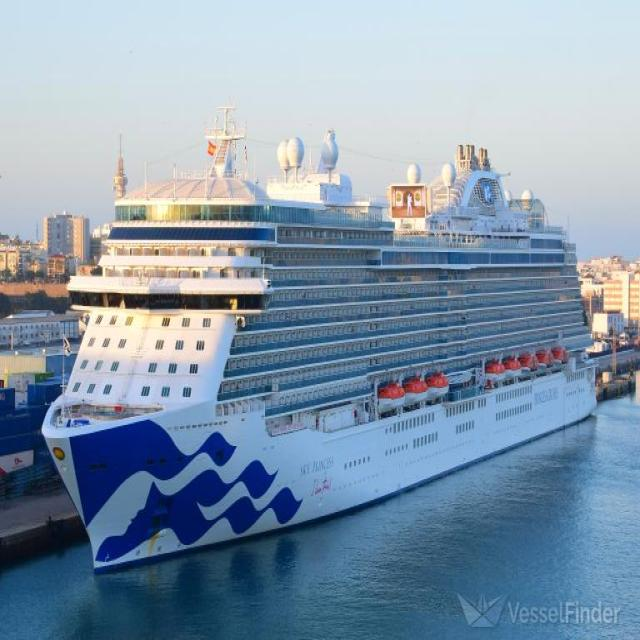PassengerShip: (50, 101, 619, 554)
